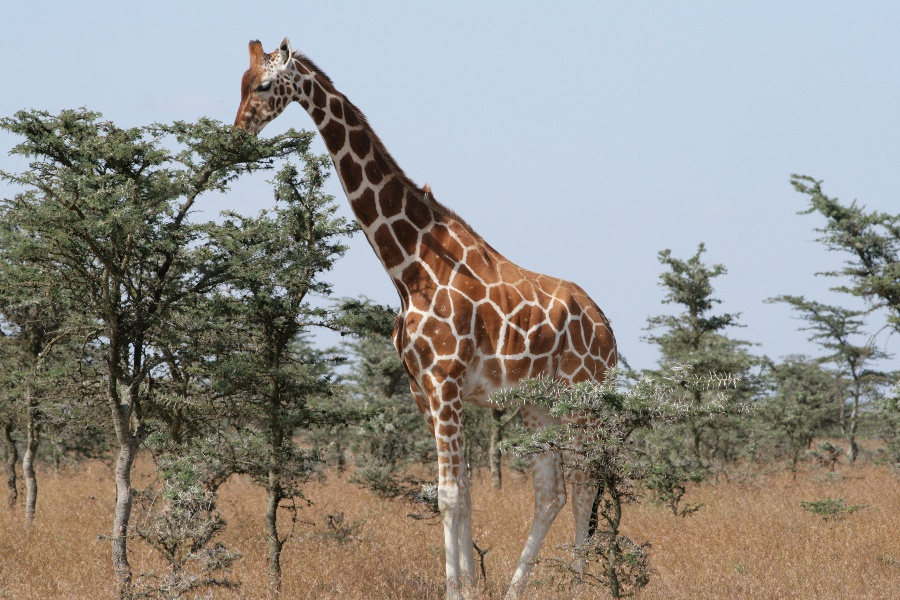giraffe: (216, 30, 653, 593)
